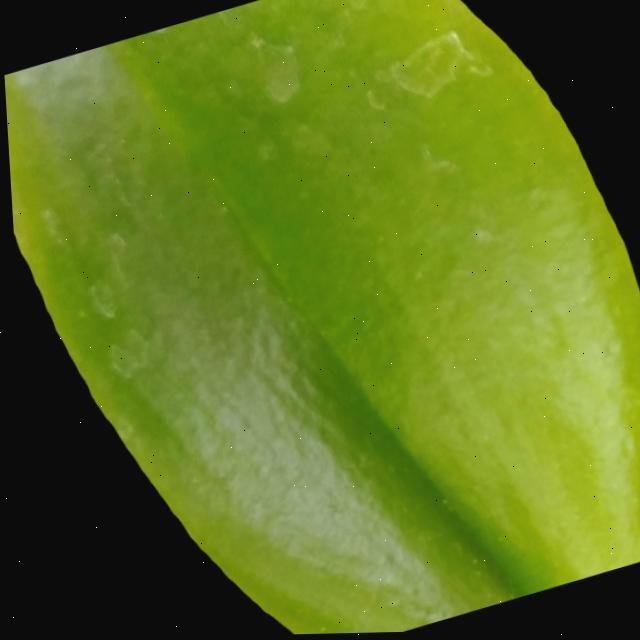mite: (231, 0, 498, 156), (201, 22, 315, 128), (380, 28, 475, 108), (248, 42, 309, 110), (77, 275, 118, 325), (279, 596, 326, 635), (299, 613, 328, 635), (146, 27, 170, 39), (306, 621, 321, 635)
spots: (3, 0, 640, 638)
